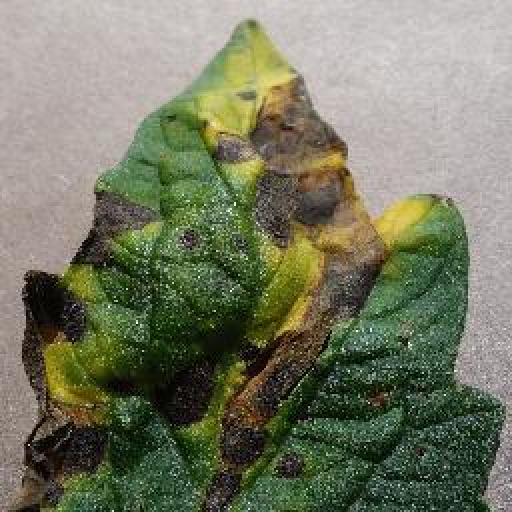Early Blight: (19, 20, 507, 512)
